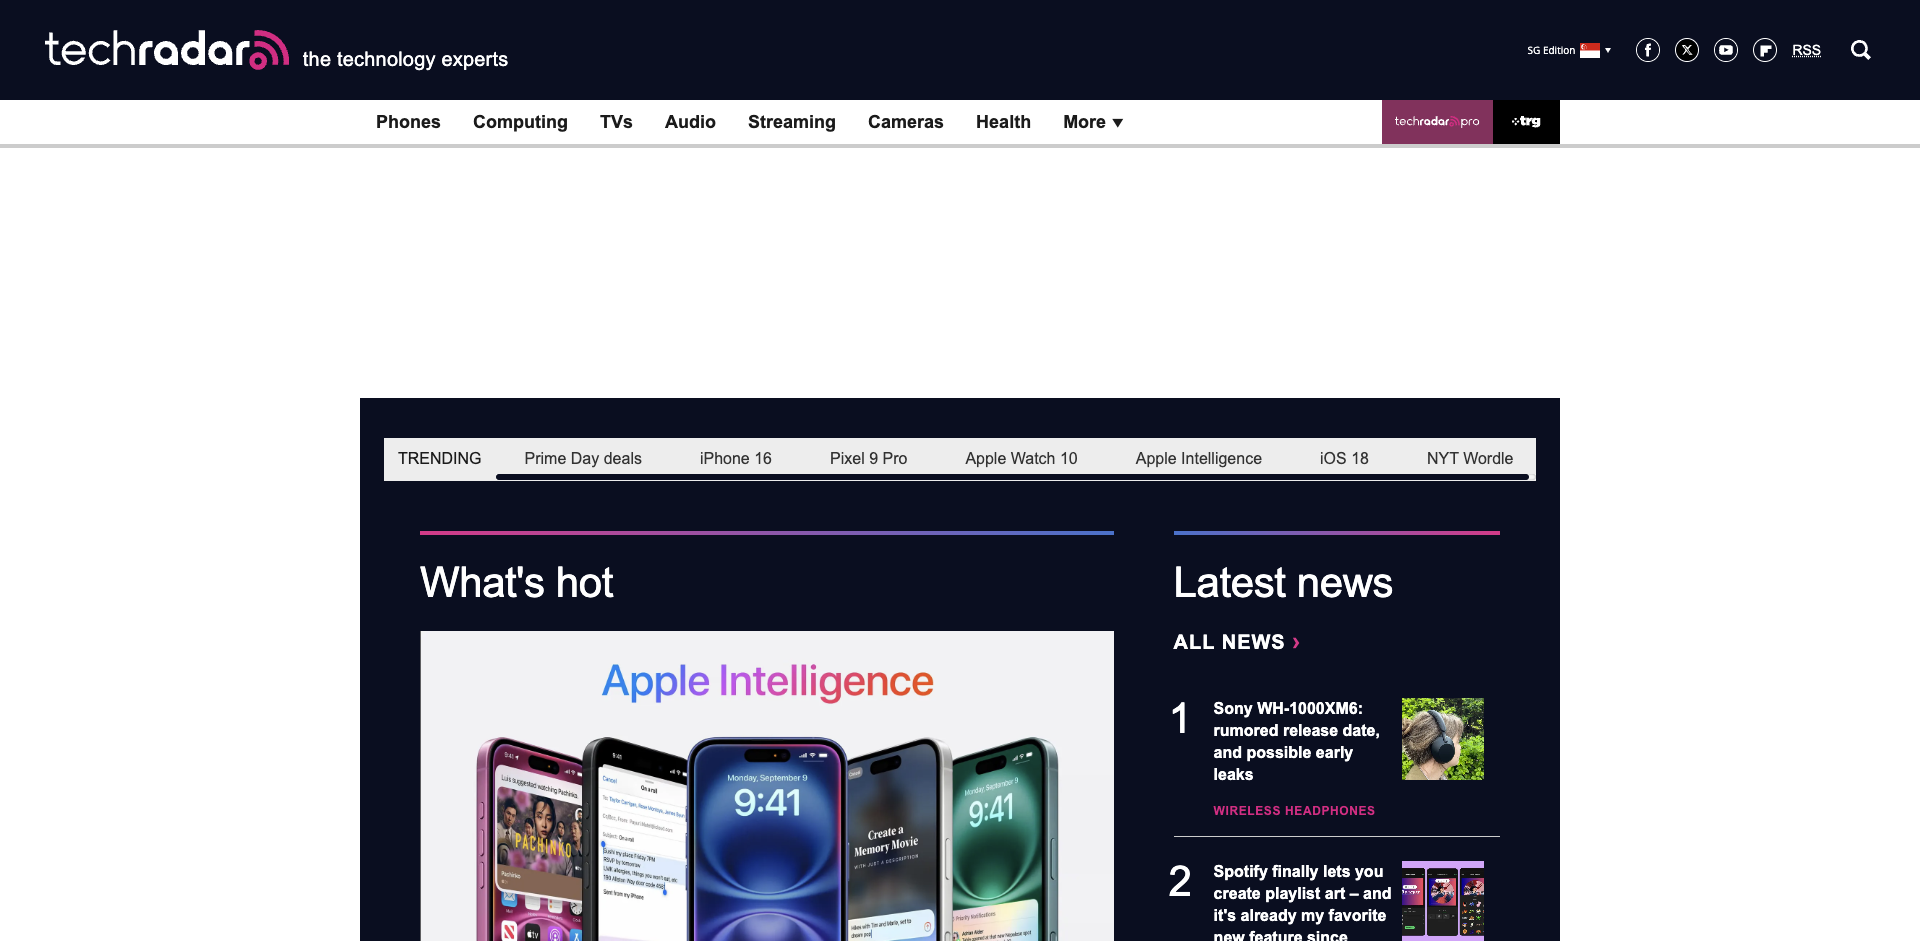button: (1636, 0, 1793, 100), (1831, 0, 1891, 100), (1517, 36, 1621, 64)
link: (420, 631, 1113, 941), (45, 0, 508, 100), (1213, 698, 1392, 792), (1213, 861, 1392, 941), (1402, 698, 1484, 779), (1173, 631, 1300, 682), (1402, 861, 1484, 941), (457, 100, 584, 145), (732, 100, 852, 145), (1382, 100, 1493, 145), (852, 100, 960, 145), (1213, 792, 1392, 816), (1129, 444, 1269, 474), (360, 100, 457, 145), (518, 444, 649, 474), (959, 444, 1085, 474), (960, 100, 1047, 145), (649, 100, 732, 145), (1420, 444, 1521, 474), (1493, 100, 1560, 145), (584, 100, 649, 145), (1793, 0, 1821, 100), (823, 444, 915, 474), (693, 444, 779, 474), (1313, 444, 1376, 474), (1636, 38, 1660, 62), (1675, 38, 1700, 62), (1714, 38, 1739, 62), (1753, 38, 1778, 62)
menu_item: (457, 100, 584, 145), (732, 100, 852, 145), (1382, 100, 1493, 145), (852, 100, 960, 145), (360, 100, 457, 145), (1047, 100, 1138, 145), (960, 100, 1047, 145), (649, 100, 732, 145), (1493, 100, 1560, 145), (584, 100, 649, 145)
